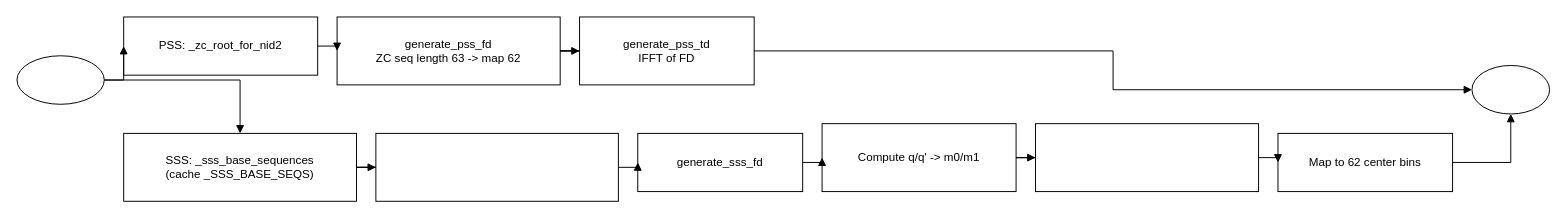
Some shapes in this 1567 by 218 pixel diagram are drawn without their labels. The shapes that lost their labels are listed below. From the top down, each one's box as (x1, y1, x2, y2) in pixels, then its label:
(16, 55, 104, 104): Start
(1471, 65, 1550, 114): End
(375, 132, 618, 201): Generate s_tilde/c_tilde/z_tilde via LFSR recursions
(1035, 123, 1259, 192): Build even/odd sequences (subframe0 vs 5)
